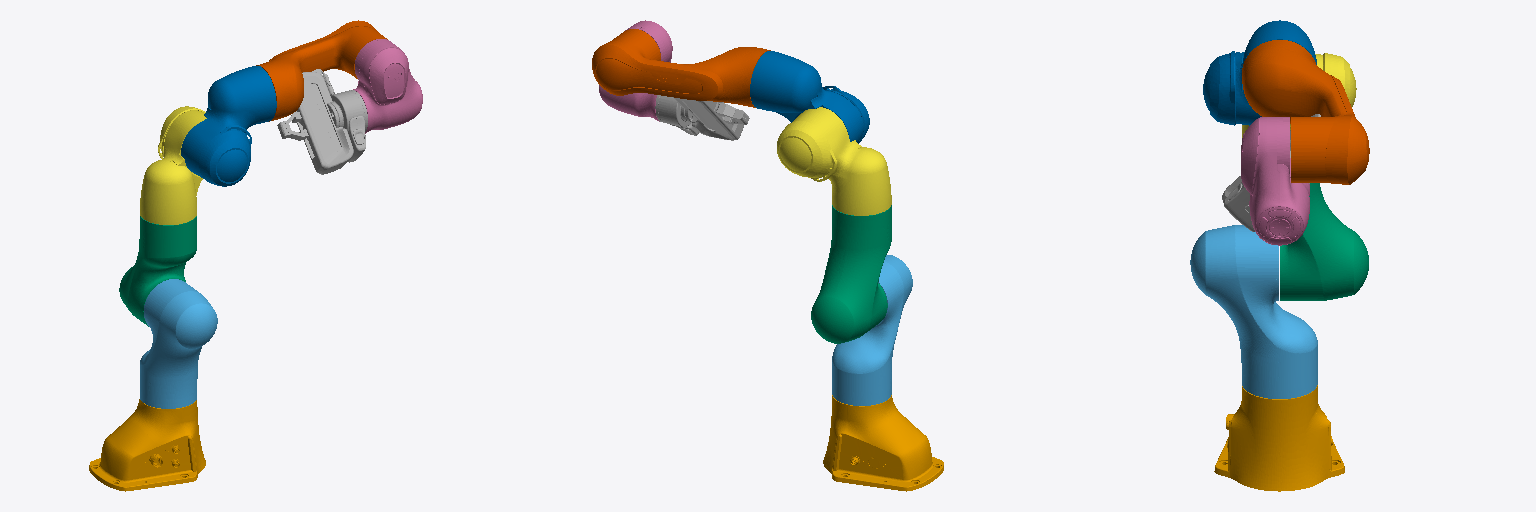
The robot description file, URDF, robot "franka_panda":
<?xml version='1.0' encoding='utf-8'?>
<robot name="franka_panda">

	<link name="link0">
		<inertial>
			<origin xyz="0 0 0.05" rpy="0 0 0" />
			<mass value="4" />
			<inertia ixx="0.4" iyy="0.4" izz="0.4" ixy="0" ixz="0" iyz="0" />
		</inertial>
		<visual>
			<geometry>
				<mesh filename="graphics/link0.obj" />
			</geometry>
		</visual>
		<collision>
			<geometry>
				<mesh filename="collision/link0.stl" />
			</geometry>
		</collision>
	</link>
	<link name="link1">
		<inertial>
			<origin xyz="0 0 -0.07" rpy="0 0 0" />
			<mass value="3" />
			<inertia ixx="0.3" iyy="0.3" izz="0.3" ixy="0" ixz="0" iyz="0" />
		</inertial>
		<visual>
			<geometry>
				<mesh filename="graphics/link1.obj" />
			</geometry>
		</visual>
		<collision>
			<geometry>
				<mesh filename="collision/link1.stl" />
			</geometry>
		</collision>
	</link>
	<link name="link2">
		<inertial>
			<origin xyz="0 -0.1 0" rpy="0 0 0" />
			<mass value="3" />
			<inertia ixx="0.3" iyy="0.3" izz="0.3" ixy="0" ixz="0" iyz="0" />
		</inertial>
		<visual>
			<geometry>
				<mesh filename="graphics/link2.obj" />
			</geometry>
		</visual>
		<collision>
			<geometry>
				<mesh filename="collision/link2.stl" />
			</geometry>
		</collision>
	</link>
	<link name="link3">
		<inertial>
			<origin xyz="0.04 0 -0.05" rpy="0 0 0" />
			<mass value="2" />
			<inertia ixx="0.2" iyy="0.2" izz="0.2" ixy="0" ixz="0" iyz="0" />
		</inertial>
		<visual>
			<geometry>
				<mesh filename="graphics/link3.obj" />
			</geometry>
		</visual>
		<collision>
			<geometry>
				<mesh filename="collision/link3.stl" />
			</geometry>
		</collision>
	</link>
	<link name="link4">
		<inertial>
			<origin xyz="-0.04 0.05 0" rpy="0 0 0" />
			<mass value="2" />
			<inertia ixx="0.2" iyy="0.2" izz="0.2" ixy="0" ixz="0" iyz="0" />
		</inertial>
		<visual>
			<geometry>
				<mesh filename="graphics/link4.obj" />
			</geometry>
		</visual>
		<collision>
			<geometry>
				<mesh filename="collision/link4.stl" />
			</geometry>
		</collision>
	</link>
	<link name="link5">
		<inertial>
			<origin xyz="0 0 -0.15" rpy="0 0 0" />
			<mass value="2" />
			<inertia ixx="0.2" iyy="0.2" izz="0.2" ixy="0" ixz="0" iyz="0" />
		</inertial>
		<visual>
			<geometry>
				<mesh filename="graphics/link5.obj" />
			</geometry>
		</visual>
		<collision>
			<geometry>
				<mesh filename="collision/link5.stl" />
			</geometry>
		</collision>
	</link>
	<link name="link6">
		<inertial>
			<origin xyz="0.06 0 0" rpy="0 0 0" />
			<mass value="1.5" />
			<inertia ixx="0.1" iyy="0.1" izz="0.1" ixy="0" ixz="0" iyz="0" />
		</inertial>
		<visual>
			<geometry>
				<mesh filename="graphics/link6.obj" />
			</geometry>
		</visual>
		<collision>
			<geometry>
				<mesh filename="collision/link6.stl" />
			</geometry>
		</collision>
	</link>
	<link name="link7">
		<inertial>
			<origin xyz="0 0 0.08" rpy="0 0 0" />
			<mass value="0.5" />
			<inertia ixx="0.05" iyy="0.05" izz="0.05" ixy="0" ixz="0" iyz="0" />
		</inertial>
		<visual>
			<origin xyz="0 0 0" rpy="0 0 0" />
			<geometry>
				<mesh filename="graphics/link7.obj" />
			</geometry>
		</visual>
		<visual>
			<origin xyz="0 0 0.107" rpy="0 0 -0.78539816339" />
			<geometry>
				<mesh filename="graphics/hand.obj" />
			</geometry>
		</visual>
		<visual>
			<origin xyz="0 0 0.1654" rpy="0 0 2.35619449019" />
			<geometry>
				<mesh filename="graphics/finger.obj" />
			</geometry>
		</visual>
		<visual>
			<origin xyz="0 0 0.1654" rpy="0 0 -0.78539816339" />
			<geometry>
				<mesh filename="graphics/finger.obj" />
			</geometry>
		</visual>
		<collision>
			<geometry>
				<mesh filename="collision/link7.stl" />
			</geometry>
		</collision>
		<collision>
			<origin xyz="0 0 0.107" rpy="0 0 -0.78539816339" />
			<geometry>
				<mesh filename="collision/hand.stl" />
			</geometry>
		</collision>
		<collision>
			<origin xyz="0 0 0.1654" rpy="0 0 2.35619449019" />
			<geometry>
				<mesh filename="collision/finger.stl" />
			</geometry>
		</collision>
		<collision>
			<origin xyz="0 0 0.1654" rpy="0 0 -0.78539816339" />
			<geometry>
				<mesh filename="collision/finger.stl" />
			</geometry>
		</collision>
	</link>

	<joint name="joint1" type="revolute">
		<safety_controller k_position="100.0" k_velocity="40.0" soft_lower_limit="-2.8973" soft_upper_limit="2.8973" />
		<origin rpy="0 0 0" xyz="0 0 0.333" />
		<parent link="link0" />
		<child link="link1" />
		<axis xyz="0 0 1" />
		<dynamics damping="1" friction="0" coulomb="0.5" />
		<limit effort="87" lower="-2.8973" upper="2.8973" velocity="2.1750" />
	</joint>
	<joint name="joint2" type="revolute">
		<safety_controller k_position="100.0" k_velocity="40.0" soft_lower_limit="-1.7628" soft_upper_limit="1.7628" />
		<origin rpy="-1.57079632679 0 0" xyz="0 0 0" />
		<parent link="link1" />
		<child link="link2" />
		<axis xyz="0 0 1" />
		<dynamics damping="1" friction="0" coulomb="0.5" />
		<calibration falling="-45.0" />
		<limit effort="87" lower="-1.7628" upper="1.7628" velocity="2.1750" />
	</joint>
	<joint name="joint3" type="revolute">
		<safety_controller k_position="100.0" k_velocity="40.0" soft_lower_limit="-2.8973" soft_upper_limit="2.8973" />
		<origin rpy="1.57079632679 0 0" xyz="0 -0.316 0" />
		<parent link="link2" />
		<child link="link3" />
		<axis xyz="0 0 1" />
		<dynamics damping="1" friction="0" coulomb="0.5" />
		<limit effort="87" lower="-2.8973" upper="2.8973" velocity="2.1750" />
	</joint>
	<joint name="joint4" type="revolute">
		<safety_controller k_position="100.0" k_velocity="40.0" soft_lower_limit="-3.0718" soft_upper_limit="-0.0698" />
		<origin rpy="1.57079632679 0 0" xyz="0.0825 0 0" />
		<parent link="link3" />
		<child link="link4" />
		<axis xyz="0 0 1" />
		<dynamics damping="1" friction="0" coulomb="0.5" />
		<calibration falling="-125.0" />
		<limit effort="87" lower="-3.0718" upper="-0.0698" velocity="2.1750" />
	</joint>
	<joint name="joint5" type="revolute">
		<safety_controller k_position="100.0" k_velocity="40.0" soft_lower_limit="-2.8973" soft_upper_limit="2.8973" />
		<origin rpy="-1.57079632679 0 0" xyz="-0.0825 0.384 0" />
		<parent link="link4" />
		<child link="link5" />
		<axis xyz="0 0 1" />
		<dynamics damping="1" friction="0" coulomb="0.5" />
		<limit effort="12" lower="-2.8973" upper="2.8973" velocity="2.6100" />
	</joint>
	<joint name="joint6" type="revolute">
		<safety_controller k_position="100.0" k_velocity="40.0" soft_lower_limit="-0.0175" soft_upper_limit="3.7525" />
		<origin rpy="1.57079632679 0 0" xyz="0 0 0" />
		<parent link="link5" />
		<child link="link6" />
		<axis xyz="0 0 1" />
		<dynamics damping="1" friction="0" coulomb="0.5" />
		<calibration falling="80.0" />
		<limit effort="12" lower="-0.0175" upper="3.7525" velocity="2.6100" />
	</joint>
	<joint name="joint7" type="revolute">
		<safety_controller k_position="100.0" k_velocity="40.0" soft_lower_limit="-2.8973" soft_upper_limit="2.8973" />
		<origin rpy="1.57079632679 0 0" xyz="0.088 0 0" />
		<parent link="link6" />
		<child link="link7" />
		<axis xyz="0 0 1" />
		<dynamics damping="1" friction="0" coulomb="0.5" />
		<limit effort="12" lower="-2.8973" upper="2.8973" velocity="2.6100" />
	</joint>

</robot>

--- Render facts (derived) ---
The picture shows the robot from 3 angles, left to right: view 1: azimuth 30°, elevation 25°; view 2: azimuth 150°, elevation 25°; view 3: azimuth 270°, elevation 25°; orthographic projection.
Robot: franka_panda — 8 links, 7 joints (7 revolute); root link link0; default pose: joints at zero except 1 at the middle of their limits (joint4 = -1.57).
Visible links, largest first — view 1: link0, link1, link4, link7, link3, link5, link6, link2; view 2: link0, link5, link2, link3, link1, link4, link7, link6; view 3: link1, link5, link0, link2, link6, link4, link7, link3.
Link boxes in pixels (<box>): link0: <box>89,399,205,491</box>; link1: <box>140,279,217,408</box>; link4: <box>181,66,276,186</box>; link7: <box>277,69,367,174</box>; link3: <box>140,106,206,224</box>; link5: <box>256,20,387,121</box>; link6: <box>353,39,422,133</box>; link2: <box>119,216,196,326</box>; link0: <box>823,395,943,491</box>; link5: <box>592,29,770,107</box>; link2: <box>811,205,891,343</box>; link3: <box>777,107,891,215</box>; link1: <box>832,255,912,405</box>; link4: <box>750,51,869,143</box>; link7: <box>655,95,749,140</box>; link6: <box>599,20,672,121</box>; link1: <box>1190,225,1317,398</box>; link5: <box>1242,40,1369,184</box>; link0: <box>1214,385,1344,491</box>; link2: <box>1280,183,1368,300</box>; link6: <box>1241,117,1309,245</box>; link4: <box>1203,20,1316,125</box>; link7: <box>1222,114,1320,231</box>; link3: <box>1242,53,1356,137</box>.
Bounding box of the posed robot: 0.7022 × 0.2593 × 0.7865 m (x, y, z).
11 mesh visuals loaded from 10 distinct referenced files (10 OBJ).